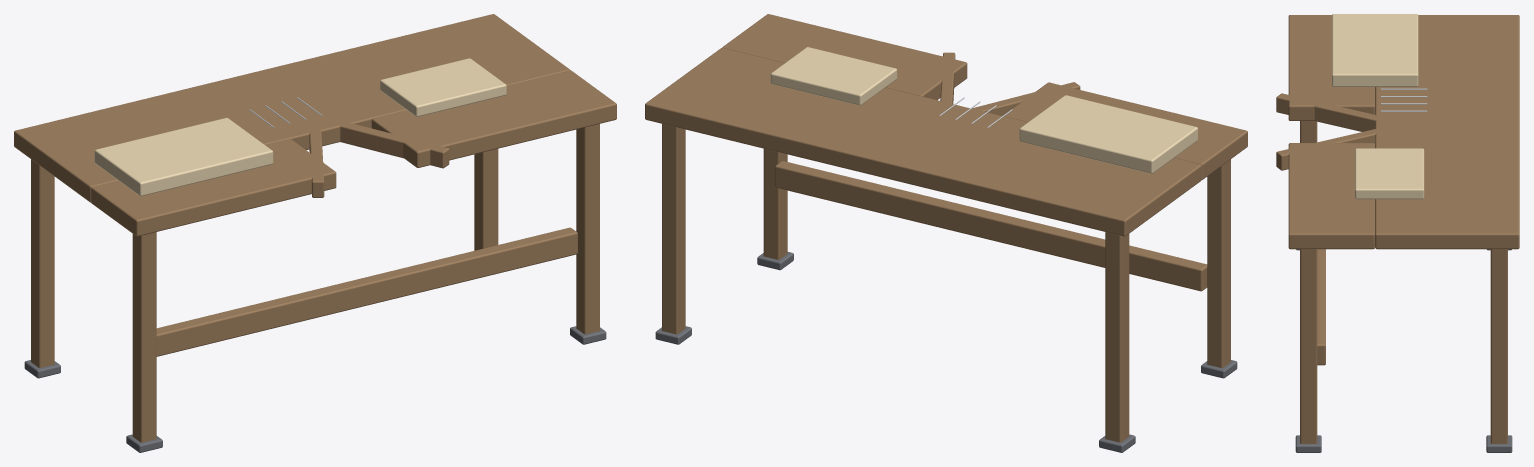
Rendered from marquetry-and-veneer-inlay-workshop-packet-cutting-ben-35bfc104__39085.glb.
3 views of the same model, side by side, from view 1: azimuth 30°, elevation 25°; view 2: azimuth 150°, elevation 25°; view 3: azimuth 270°, elevation 25° (orthographic). The views are drawn at different scales.
Visible parts, largest first — view 1: packet-cutting-bench-with-birdsmouth; view 2: packet-cutting-bench-with-birdsmouth; view 3: packet-cutting-bench-with-birdsmouth.
Part boxes in pixels (x1,y1,x2,y2): packet-cutting-bench-with-birdsmouth: (14, 14, 616, 452); packet-cutting-bench-with-birdsmouth: (645, 14, 1247, 452); packet-cutting-bench-with-birdsmouth: (1276, 14, 1519, 452).
Bounding box in the file's own units: 1.8 × 0.9 × 0.8421.
